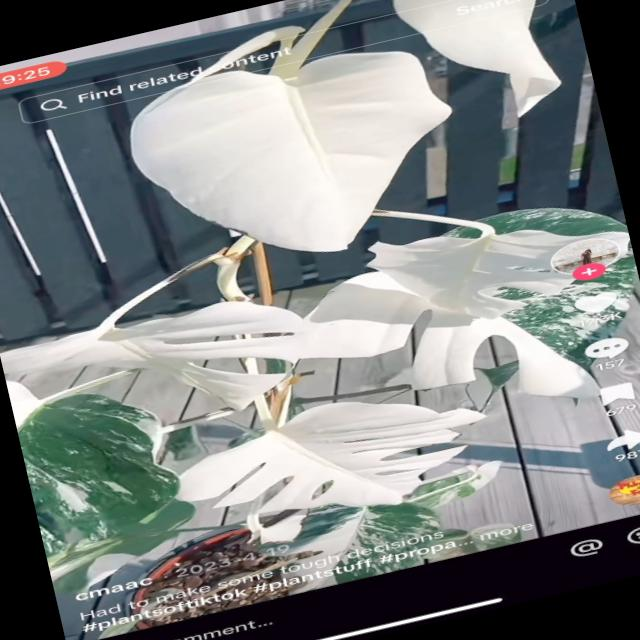lisc_variegata: (0, 210, 640, 599), (128, 33, 455, 257), (3, 369, 193, 577), (394, 0, 561, 123)
roslina_variegata: (0, 0, 636, 600)
